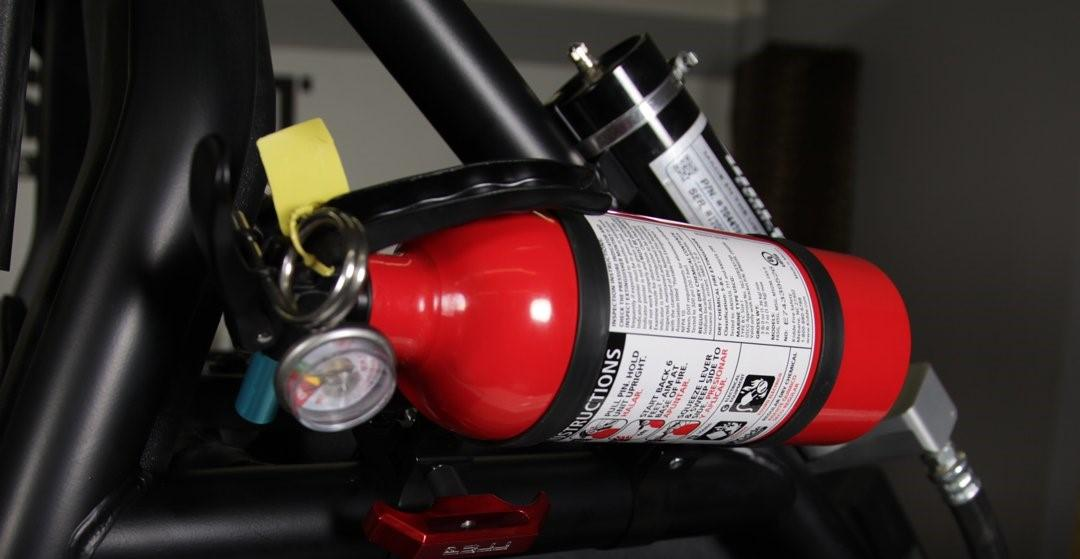Fire Extinguisher: (279, 197, 933, 469)
